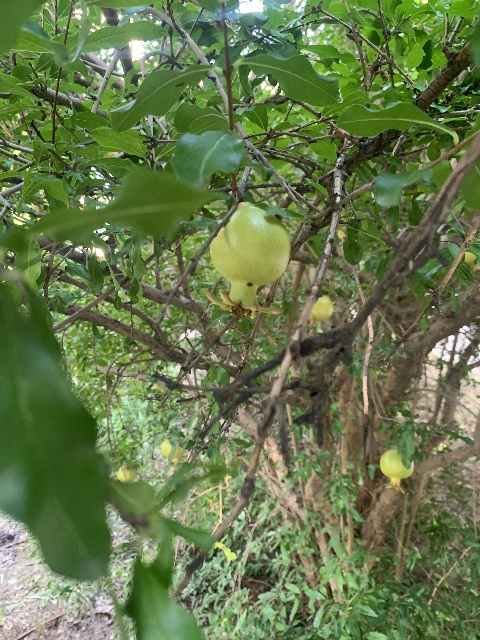mid-growth: (203, 201, 290, 319), (379, 449, 414, 494), (307, 294, 333, 327), (160, 438, 184, 463), (117, 464, 135, 482)
